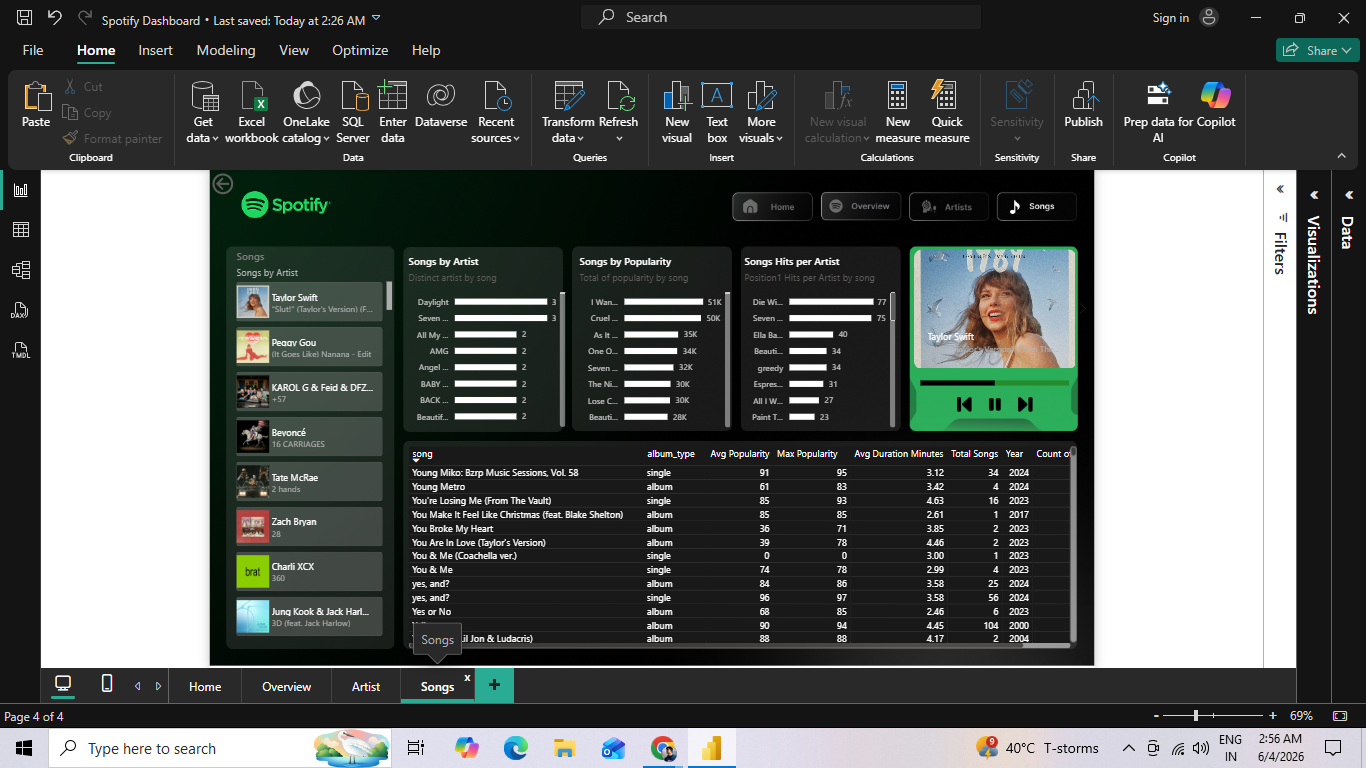

The dashboard page shown, as its layout file describes it:
{"tool":"powerbi","page":{"name":"Songs","canvas":[1280,720],"ordinal":3},"visuals":[{"type":"advancedSlicerVisual","title":"Songs","fields":{"Values":["Top-50-World.song"],"Label":["Min(Top-50-World.artist)"]},"box":[34.7,114.2,235.7,571.1],"z":3},{"type":"advancedSlicerVisual","title":"Songs","fields":{"Values":["Top-50-World.song"],"Label":["Min(Top-50-World.artist)"]},"box":[993.2,108.4,285.6,184.8],"z":4},{"type":"hundredPercentStackedBarChart","fields":{"Y":["Top-50-World.Avg Popularity","Avg(Top-50-World.popularity)"]},"box":[1023.5,269.7,225.1,68.9],"z":5},{"type":"image","box":[1167.9,323.5,23.5,30.2],"z":6},{"type":"image","box":[1080.6,323.5,23.5,30.2],"z":7},{"type":"image","box":[1102.4,323.5,65.5,30.2],"z":8},{"type":"shape","box":[1006.7,103.4,263.7,290.6],"z":9},{"type":"actionButton","box":[0,0,100,40],"z":11},{"type":"clusteredBarChart","title":"Songs by Artist","fields":{"Category":["Top-50-World.song"],"Y":["Count(Top-50-World.artist)"]},"box":[282.9,121.9,236.9,255.3],"z":12},{"type":"clusteredBarChart","title":"Songs by Popularity","fields":{"Category":["Top-50-World.song"],"Y":["Sum(Top-50-World.popularity)"]},"box":[530.6,121.4,228.4,255.9],"z":13},{"type":"clusteredBarChart","title":"Songs Hits per Artist","fields":{"Category":["Top-50-World.song"],"Y":["Top-50-World.Position1 Hits per Artist"]},"box":[769.2,121.4,228.4,255.9],"z":14},{"type":"tableEx","fields":{"Values":["Top-50-World.song","Top-50-World.album_type","Top-50-World.Avg Popularity","Top-50-World.Max Popularity","Top-50-World.Avg Duration Minutes","Top-50-World.Total Songs","Top-50-World.release_date.Variation.Date Hierarchy.Year","Count(Top-50-World.popularity)"]},"box":[283.4,394.7,975.9,302.2],"z":15}]}

Visuals, with their boxes on the page's 1280x720 design canvas (x1, y1, x2, y2). These are canvas units, not pixel positions in the 1366x768 screenshot, which may show the page scaled, cropped or inside an application window:
"Songs" advancedSlicerVisual: 35/114/270/685
"Songs" advancedSlicerVisual: 993/108/1279/293
hundredPercentStackedBarChart - Top-50-World.Avg Popularity x Avg(Top-50-World.popularity): 1024/270/1249/339
image: 1168/324/1191/354
image: 1081/324/1104/354
image: 1102/324/1168/354
shape: 1007/103/1270/394
actionButton: 0/0/100/40
"Songs by Artist" clusteredBarChart: 283/122/520/377
"Songs by Popularity" clusteredBarChart: 531/121/759/377
"Songs Hits per Artist" clusteredBarChart: 769/121/998/377
tableEx - Top-50-World.song x Top-50-World.album_type: 283/395/1259/697
